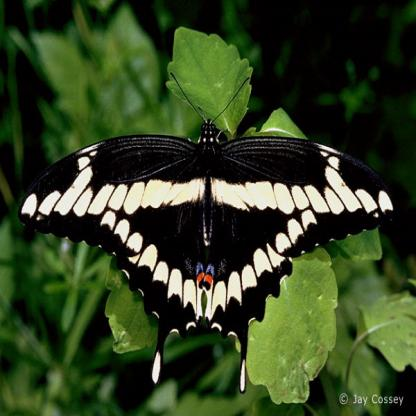Giant Swallowtail: (14, 78, 397, 406)
